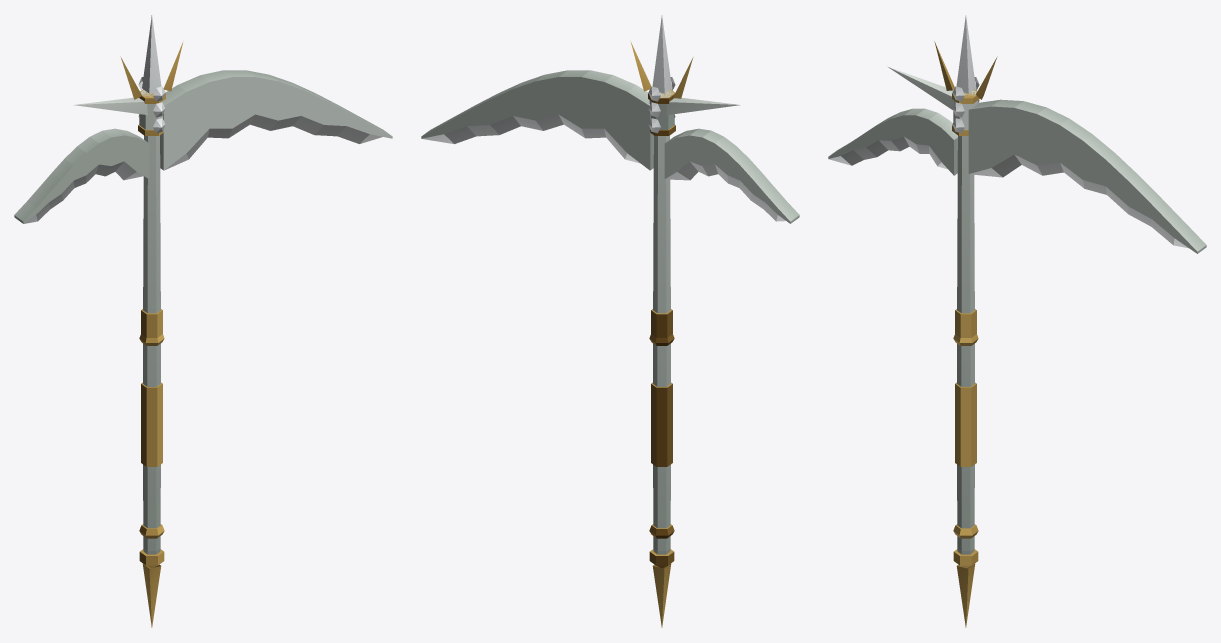
File: barb_scythe_4.gltf
The picture shows the model from 3 angles, left to right: view 1: azimuth 30°, elevation 25°; view 2: azimuth 150°, elevation 25°; view 3: azimuth 330°, elevation 25°; orthographic projection.
Parts seen in each view (by area): view 1: barb_scythe_4; view 2: barb_scythe_4; view 3: barb_scythe_4.
Part boxes in pixels (bbox=[...]): barb_scythe_4: bbox=[14, 15, 392, 627]; barb_scythe_4: bbox=[421, 15, 799, 627]; barb_scythe_4: bbox=[828, 15, 1206, 627].
Size of the model in its own units: 2.05 by 3.26 by 0.189.
1 material, 1 textured.
